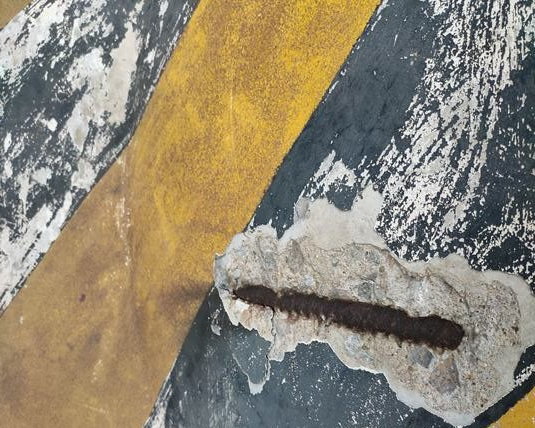Exposed reinforcement: (231, 284, 464, 351)
Spalling: (213, 184, 535, 428)
